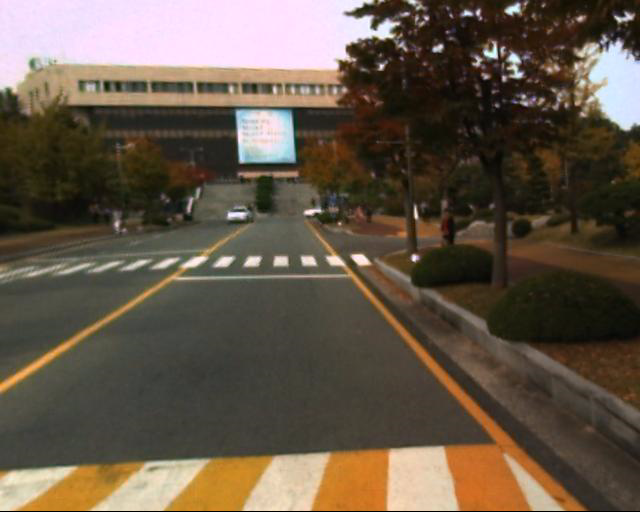person: (436, 207, 460, 264)
